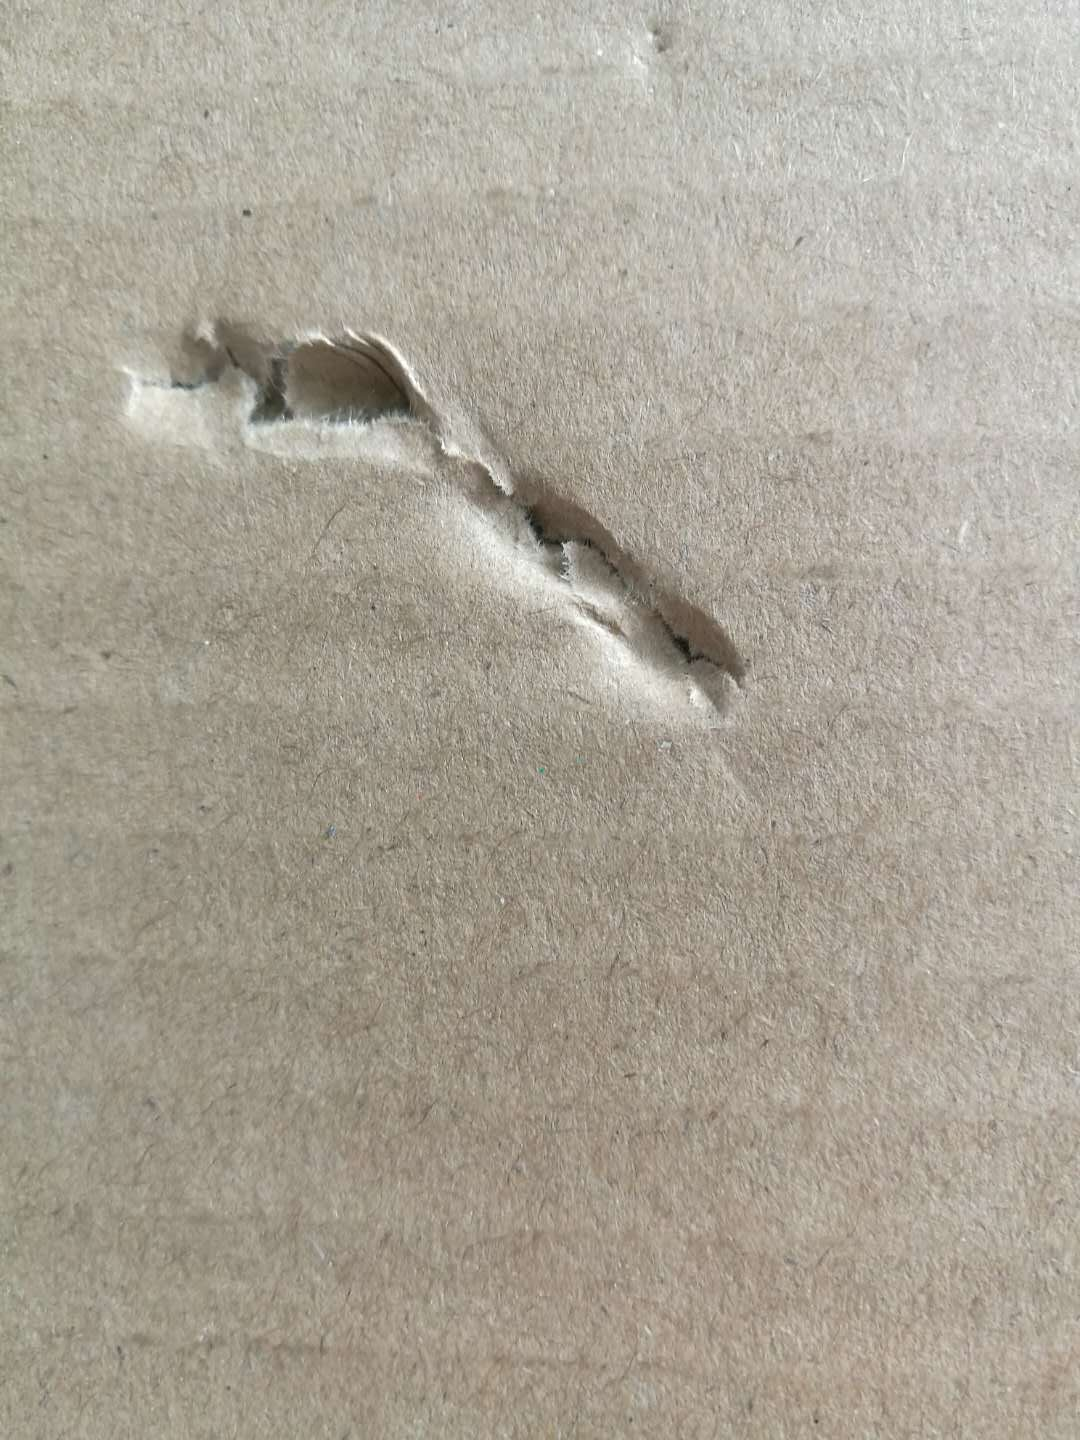defect: (86, 272, 825, 755), (622, 8, 697, 84)
